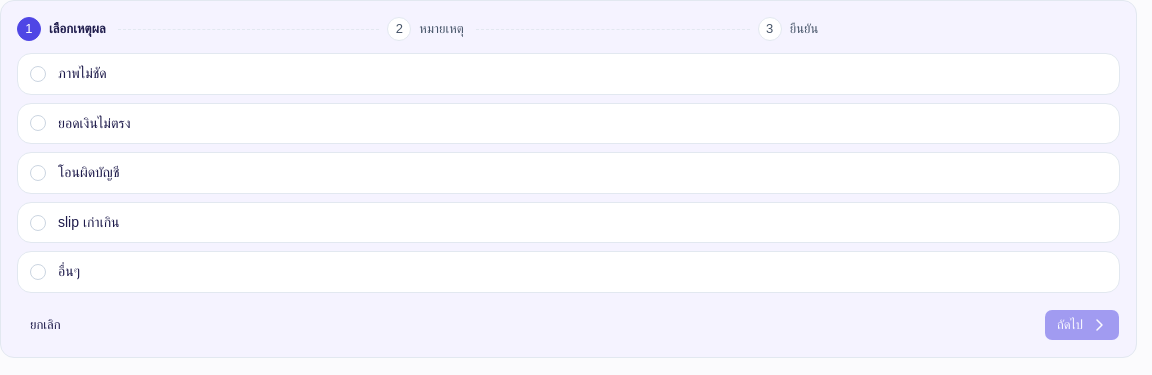
Scenario: RejectWizard › blocks 'ถัดไป' on the reason step until a reason is selected
Expected: the button "ถัดไป" is disabled, 1044,309 -> 1120,341
Step 1. Click the radio button named "ภาพไม่ชัด" next to "ภาพไม่ชัด" → coordinates (38, 74), box 30,66 -> 46,82
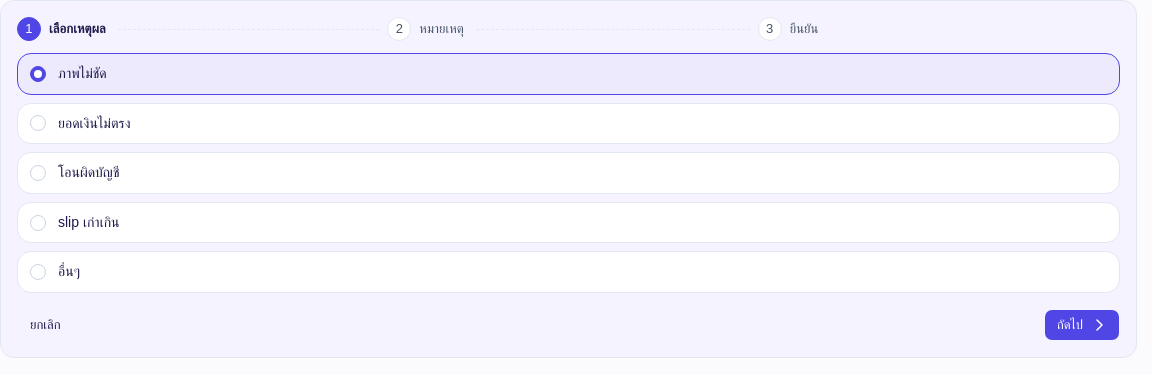
Expected: the button "ถัดไป" is enabled, 1044,309 -> 1120,341
